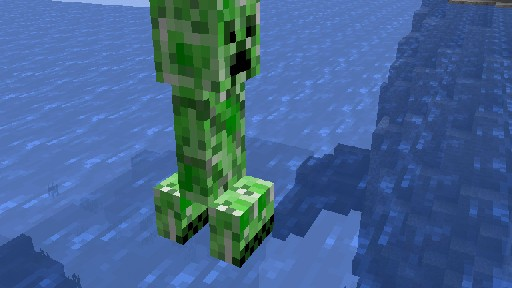creeper: (148, 0, 274, 267)
